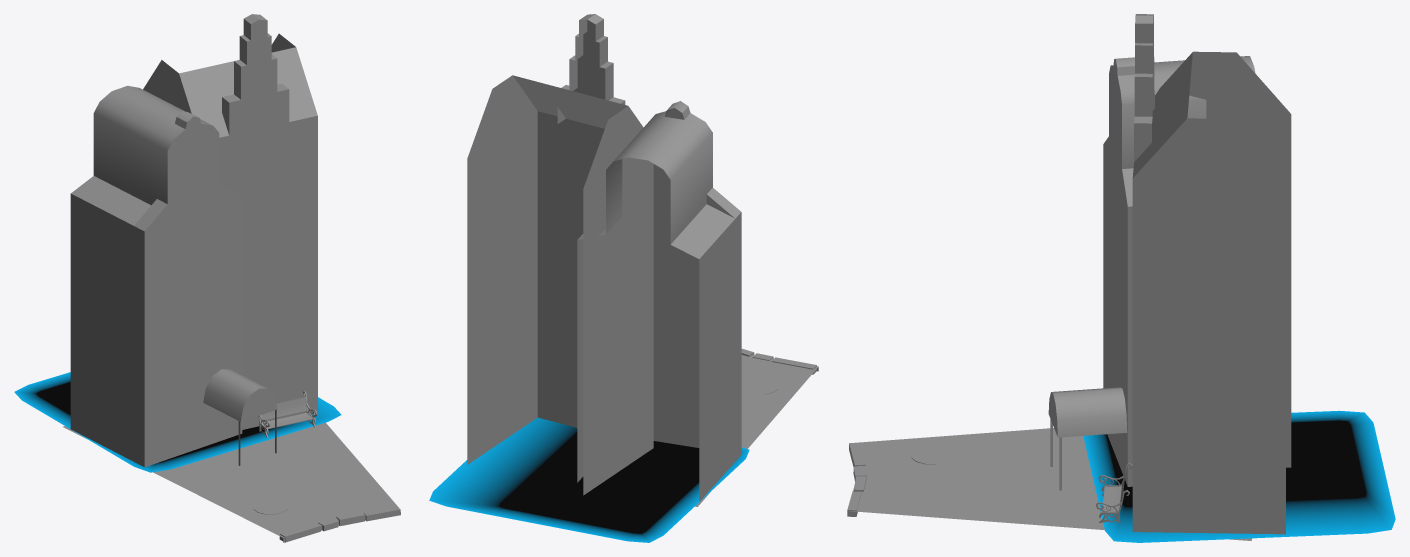
Rendered from CharacterWedge (2).fbx.
The picture shows the model from 3 angles, left to right: view 1: azimuth 30°, elevation 25°; view 2: azimuth 150°, elevation 25°; view 3: azimuth 270°, elevation 25°; orthographic projection. The views are drawn at different scales.
Visible parts, largest first — view 1: Building_OldTown_E, Building_OldTown_D, Start_Wedge, Building_Shadow, Awning_C (1), Bench; view 2: Building_OldTown_D, Building_OldTown_E, Building_Shadow, Start_Wedge; view 3: Building_OldTown_D, Start_Wedge, Building_Shadow, Building_OldTown_E, Awning_C (1), Bench.
Part boxes in pixels (<box>): Building_OldTown_E: <box>70,85,242,467</box>; Building_OldTown_D: <box>143,14,317,429</box>; Start_Wedge: <box>63,422,397,542</box>; Building_Shadow: <box>14,372,341,472</box>; Awning_C (1): <box>203,369,277,465</box>; Bench: <box>258,391,317,437</box>; Building_OldTown_D: <box>467,14,653,495</box>; Building_OldTown_E: <box>577,101,741,501</box>; Building_Shadow: <box>429,417,749,542</box>; Start_Wedge: <box>695,355,818,506</box>; Building_OldTown_D: <box>1132,14,1291,534</box>; Start_Wedge: <box>849,428,1252,540</box>; Building_Shadow: <box>1083,410,1395,542</box>; Building_OldTown_E: <box>1103,56,1255,486</box>; Awning_C (1): <box>1048,387,1127,490</box>; Bench: <box>1096,463,1132,523</box>.
Size of the model in its own units: 9.75 by 16.83 by 17.09.
